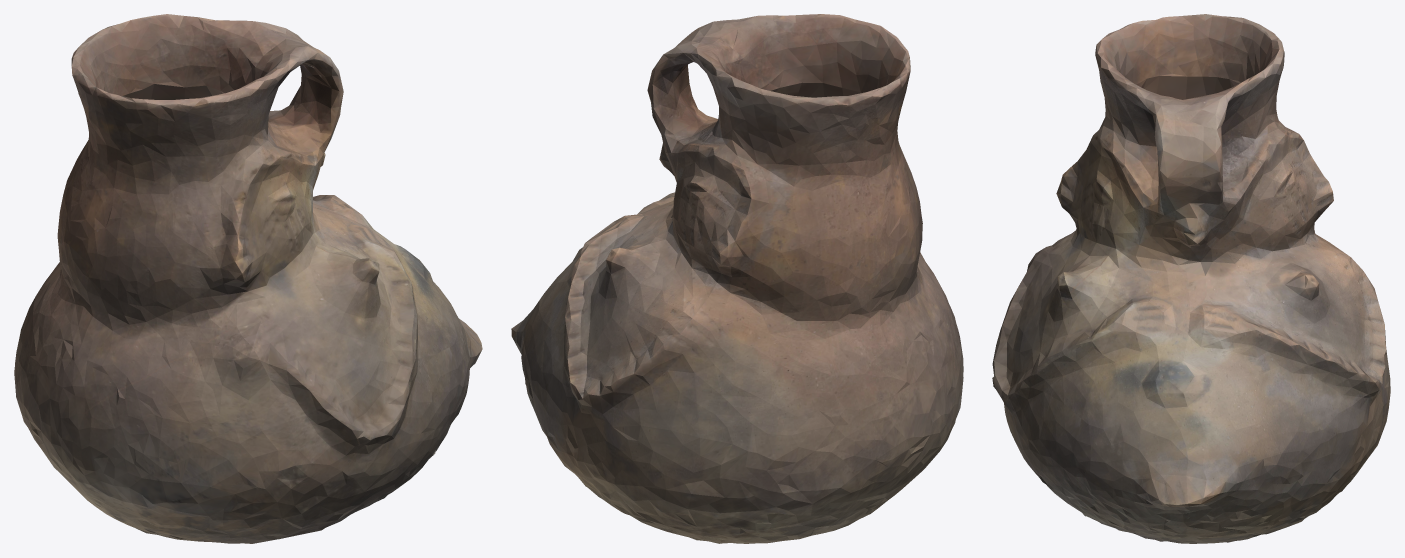
File: mujerave.glb
The picture shows the model from 3 angles, left to right: view 1: azimuth 30°, elevation 25°; view 2: azimuth 150°, elevation 25°; view 3: azimuth 270°, elevation 25°; orthographic projection. The views are drawn at different scales.
Parts seen in each view (by area): view 1: Mujer ave; view 2: Mujer ave; view 3: Mujer ave.
Part boxes in pixels (box(x1,y1,x2,y2)): Mujer ave: box(14, 14, 482, 543); Mujer ave: box(511, 14, 963, 543); Mujer ave: box(992, 14, 1390, 543).
Bounding box in the file's own units: 0.1524 × 0.1607 × 0.1337.
Materials: 1 (1 with a texture image).
